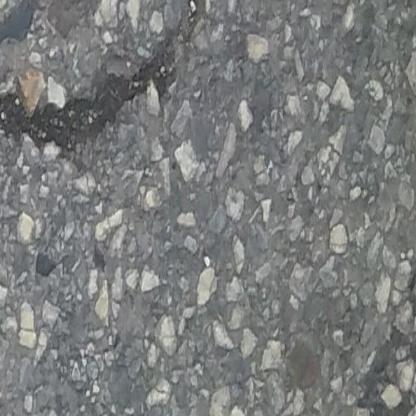Cracks: (0, 0, 208, 153)
